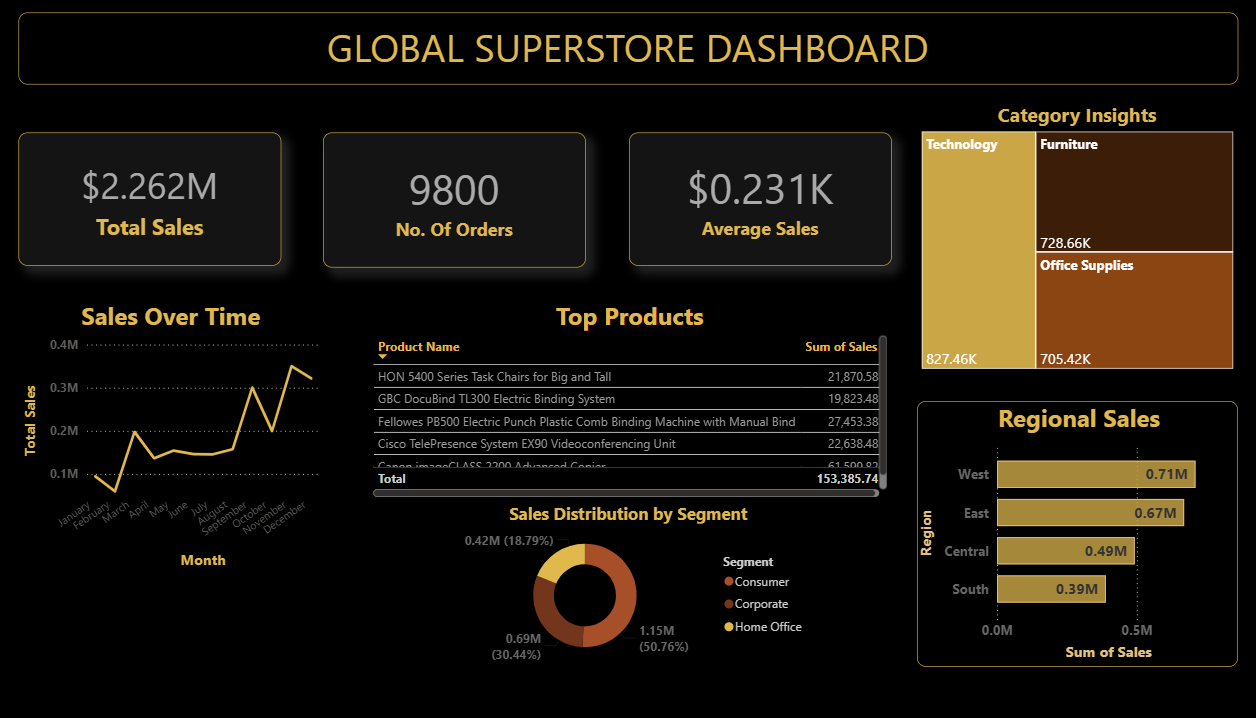

The dashboard page shown, as its layout file describes it:
{"tool":"powerbi","page":{"name":"Page 1","canvas":[1400,800],"ordinal":0},"visuals":[{"type":"card","title":"Total Sales ","fields":{"Values":["train.Total Sales"]},"box":[22,148,292,148],"z":0},{"type":"card","fields":{"Values":["train.Average Sales"]},"box":[700,148,292,148],"z":1000},{"type":"card","fields":{"Values":["train.Total Orders"]},"box":[360,148,292,150],"z":2000},{"type":"textbox","box":[21.7,15,1355,80],"z":3000},{"type":"lineChart","title":"Sales Over Time","fields":{"Category":["train.Order Date.Variation.Date Hierarchy.Year","train.Order Date.Variation.Date Hierarchy.Quarter","train.Order Date.Variation.Date Hierarchy.Month","train.Order Date.Variation.Date Hierarchy.Day"],"Y":["train.Total Sales"]},"box":[21.4,332.9,338.6,304.3],"z":4000},{"type":"treemap","title":"Category Insights ","fields":{"Group":["train.Category"],"Values":["Sum(train.Sales)"]},"box":[1020,114,356,302],"z":5000},{"type":"clusteredBarChart","title":"Regional Sales","fields":{"Category":["train.Region"],"Y":["Sum(train.Sales)"]},"box":[1020,446.7,356.7,295],"z":6000},{"type":"tableEx","title":"Top Products","fields":{"Values":["train.Product Name","Sum(train.Sales)"]},"box":[410,333.3,581.7,225],"z":7000},{"type":"donutChart","title":"Sales Distribution by Segment","fields":{"Category":["train.Segment"],"Y":["Sum(train.Sales)"]},"box":[491.7,558.3,415,183.3],"z":8000}]}

Visuals, with their boxes in screenshot pixels (x1, y1, x2, y2), scaled from the page's 1400x800 canvas onto the 1256x718 screenshot:
"Total Sales " card: <bbox>20, 133, 282, 266</bbox>
card - train.Average Sales: <bbox>628, 133, 890, 266</bbox>
card - train.Total Orders: <bbox>323, 133, 585, 267</bbox>
textbox: <bbox>19, 13, 1235, 85</bbox>
"Sales Over Time" lineChart: <bbox>19, 299, 323, 572</bbox>
"Category Insights " treemap: <bbox>915, 102, 1234, 373</bbox>
"Regional Sales" clusteredBarChart: <bbox>915, 401, 1235, 666</bbox>
"Top Products" tableEx: <bbox>368, 299, 890, 501</bbox>
"Sales Distribution by Segment" donutChart: <bbox>441, 501, 813, 666</bbox>
